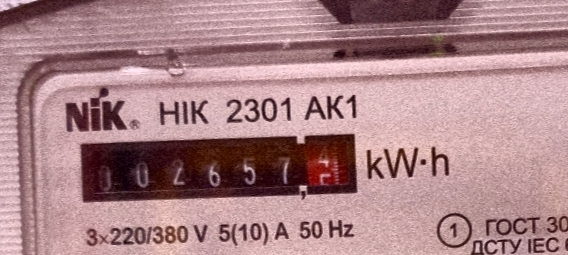0: (134, 156, 151, 187), (96, 160, 114, 189)
2: (170, 155, 187, 185)
4: (316, 140, 332, 166)
5: (241, 153, 259, 184), (318, 169, 334, 184)
6: (206, 155, 222, 186)
7: (277, 151, 294, 184)
screen: (71, 114, 370, 218)
